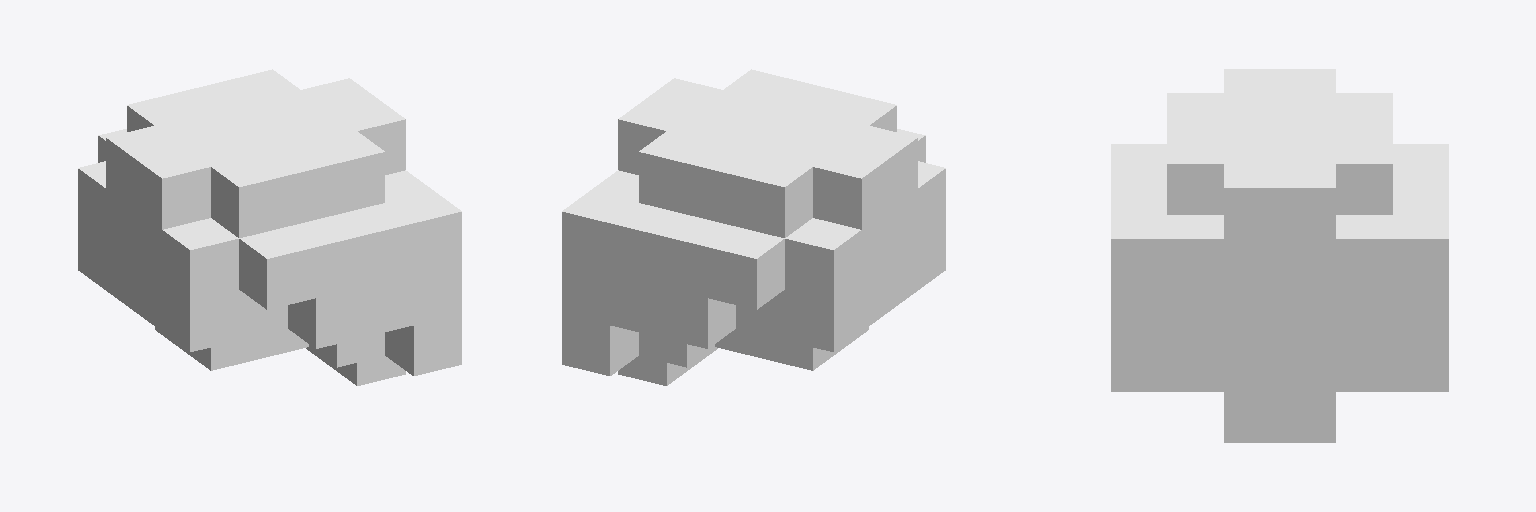
The model's file is S_WhalePartB.obj.
The picture shows the model from 3 angles: view 1: azimuth 30°, elevation 25°; view 2: azimuth 150°, elevation 25°; view 3: azimuth 270°, elevation 25°; orthographic projection.
Visible parts, largest first — view 1: object 1; view 2: object 1; view 3: object 1.
Boxes of the visible parts, x1=… form: object 1: x1=78, y1=69, x2=461, y2=385; object 1: x1=562, y1=69, x2=945, y2=385; object 1: x1=1111, y1=69, x2=1448, y2=442.
Bounding box in the file's own units: 0.5 × 0.5 × 0.6.